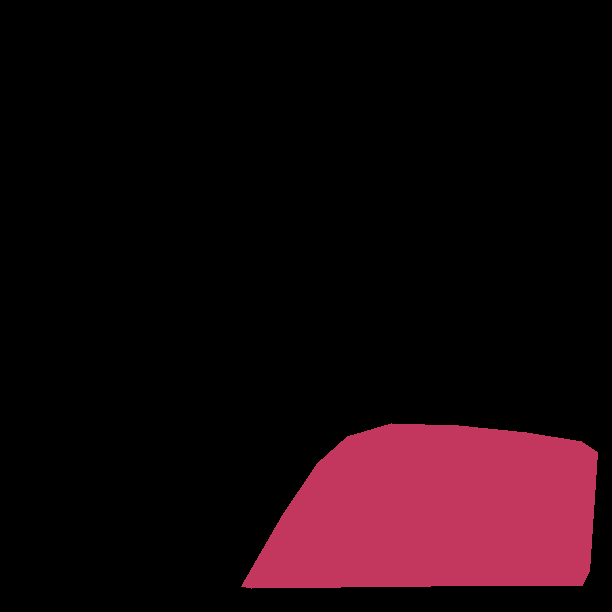Airplane: (241, 423, 598, 589)
